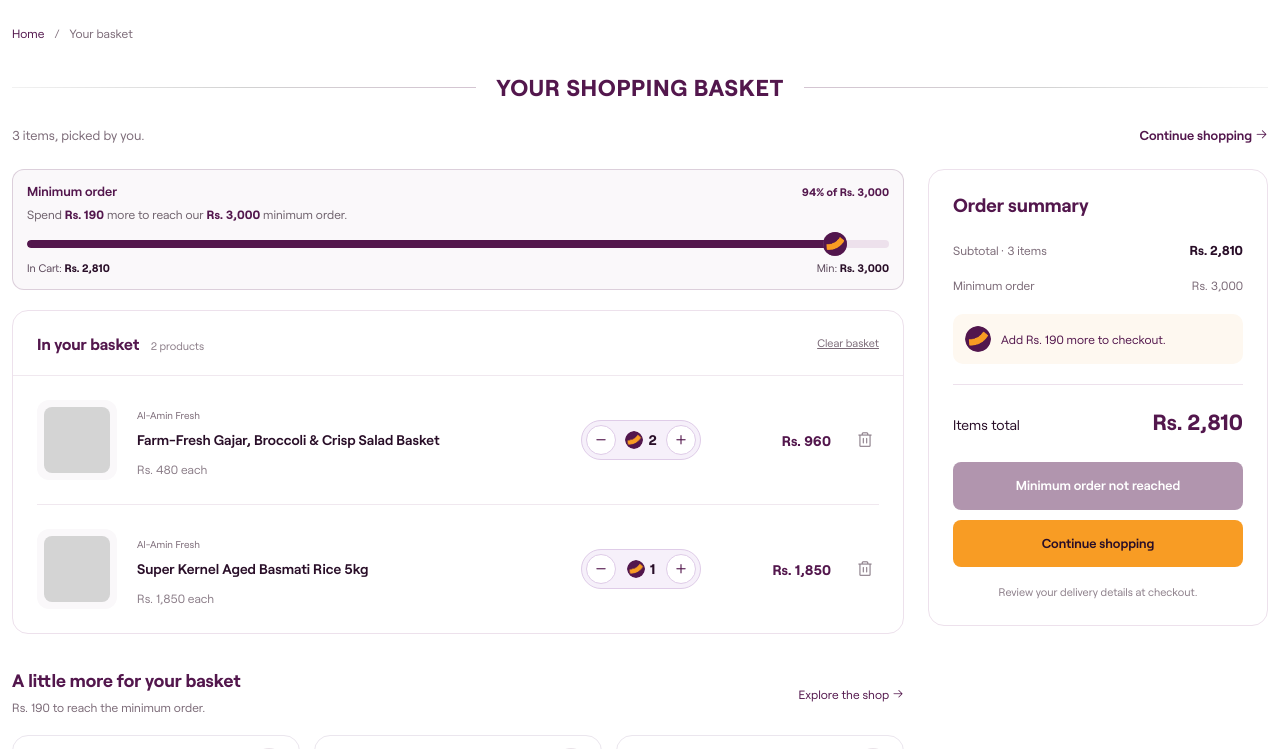
Scenario: Branded cart page › updates totals and checkout eligibility when quantities change
This screenshot has width=1280, height=749.
What coordinates should you click on to do the following:
click the 1st button with class "simple-qty-control__btn--plus"
I would click on:
 (681, 440)
Its box is 666,426 -> 696,456.
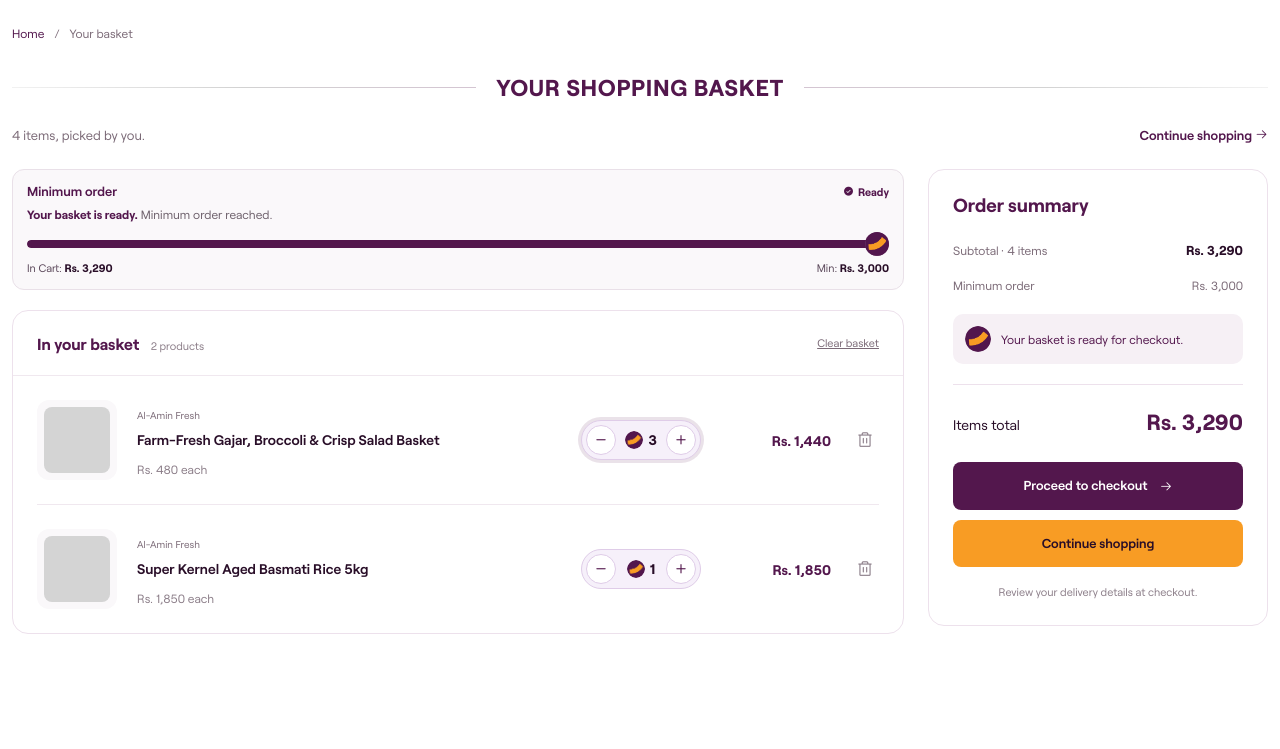
Result: the element with class "summary-total" shows "3,290" at 1147,408 -> 1243,434
